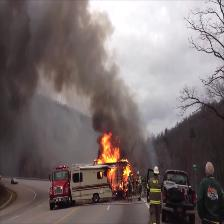fire: (98, 134, 116, 166)
smoke: (1, 12, 96, 77), (93, 83, 127, 128), (126, 131, 154, 173)
